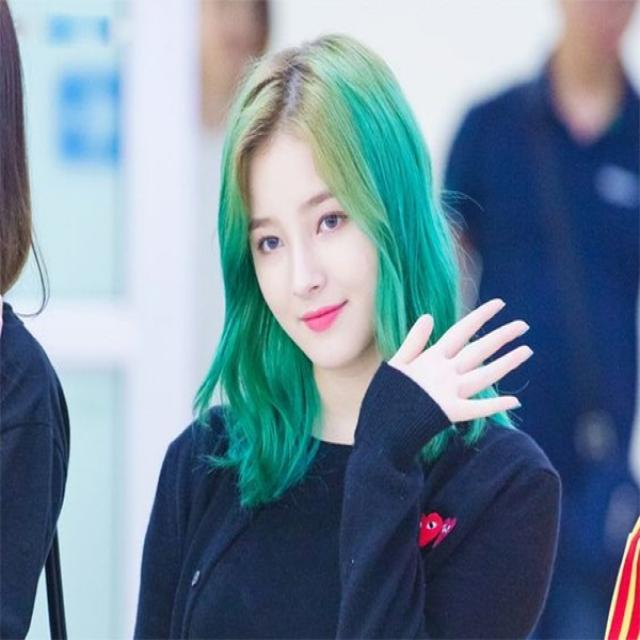Nonhelmet: (212, 27, 450, 395)
